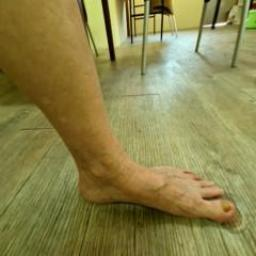Medial View -Left Foot-: (50, 125, 251, 243)
